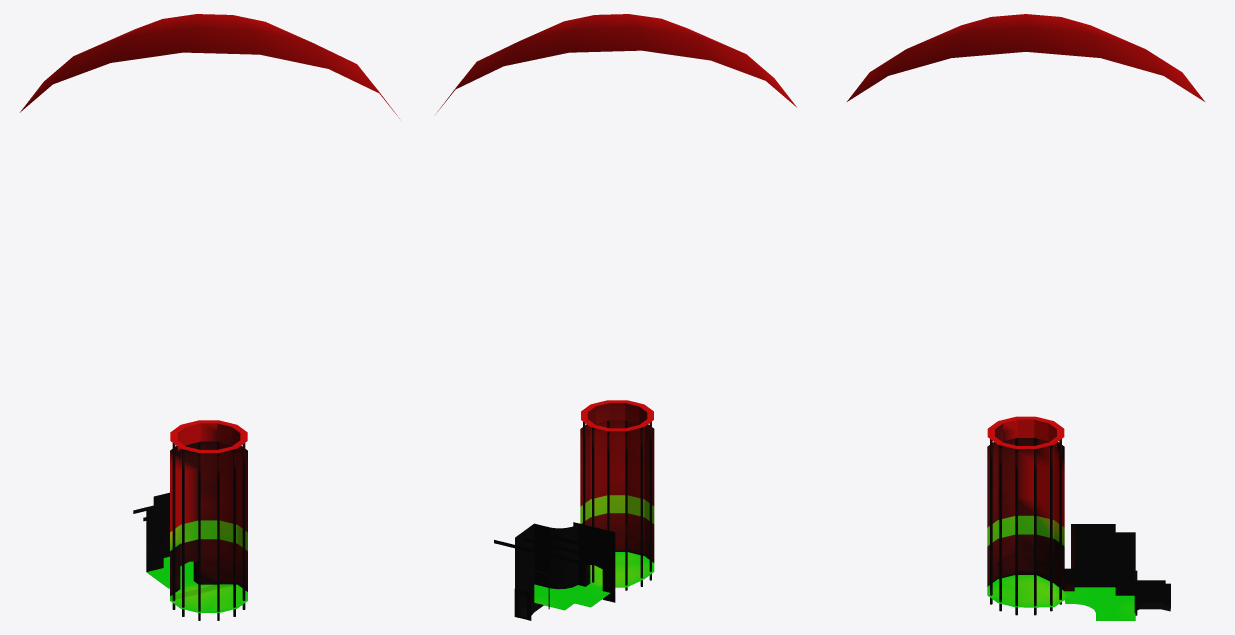
The model's file is sanctum.glb.
3 renders of one model, left to right at view 1: azimuth 30°, elevation 25°; view 2: azimuth 150°, elevation 25°; view 3: azimuth 270°, elevation 25°, orthographic. The views are drawn at different scales.
Visible parts, largest first — view 1: Sanctum, Sanctum_Light_Dome, Sanctum_Pillars; view 2: Sanctum, Sanctum_Light_Dome, Sanctum_Pillars, Sanctum_Wood_Support, Sanctum_Access; view 3: Sanctum, Sanctum_Light_Dome, Sanctum_Pillars, Sanctum_Access.
Part boxes in pixels (x1=…): Sanctum: x1=146, y1=420, x2=247, y2=612; Sanctum_Light_Dome: x1=20, y1=14, x2=399, y2=118; Sanctum_Pillars: x1=172, y1=441, x2=245, y2=620; Sanctum: x1=515, y1=400, x2=654, y2=610; Sanctum_Light_Dome: x1=435, y1=14, x2=796, y2=114; Sanctum_Pillars: x1=583, y1=420, x2=651, y2=590; Sanctum_Wood_Support: x1=494, y1=531, x2=613, y2=565; Sanctum_Access: x1=514, y1=570, x2=549, y2=620; Sanctum: x1=987, y1=416, x2=1135, y2=620; Sanctum_Light_Dome: x1=847, y1=14, x2=1204, y2=101; Sanctum_Pillars: x1=990, y1=438, x2=1061, y2=615; Sanctum_Access: x1=1134, y1=570, x2=1170, y2=615.
Bounding box in the file's own units: 39.02 × 62.87 × 39.02.
